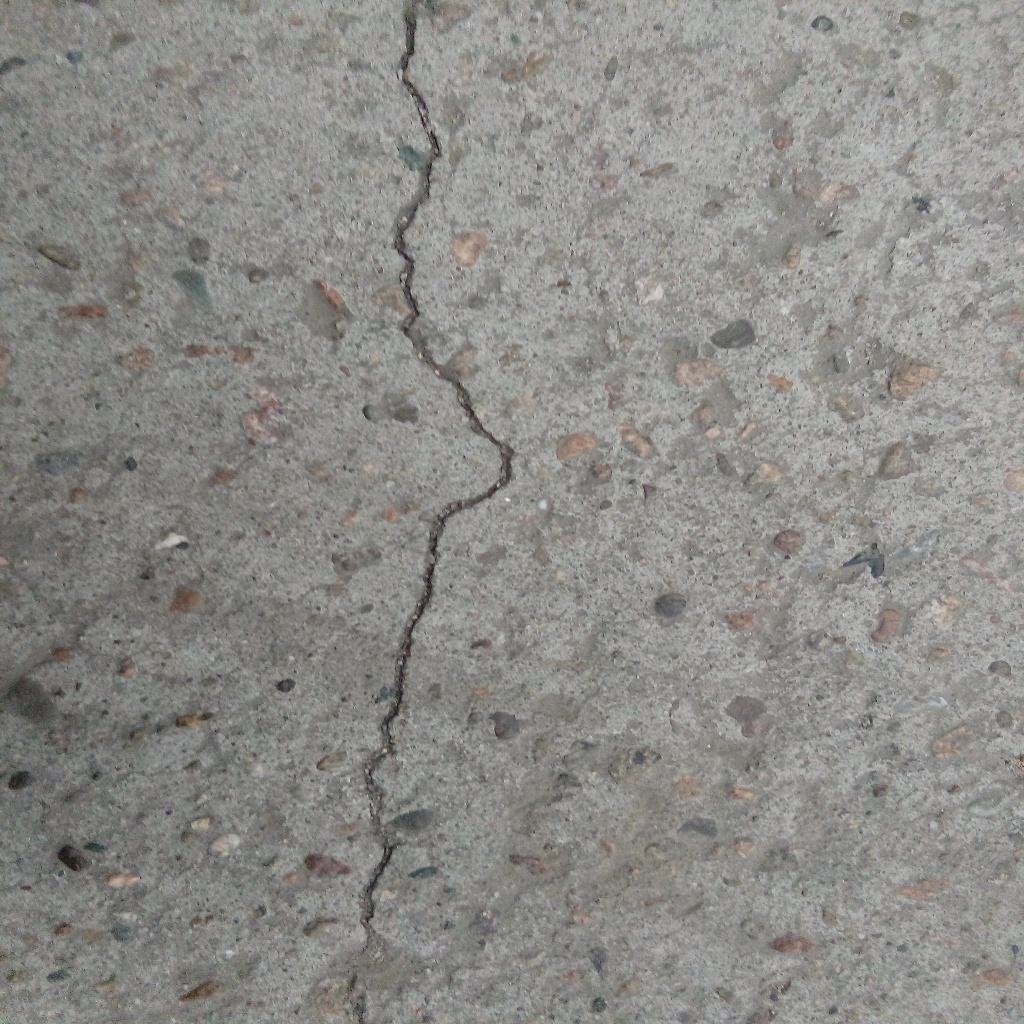Crack: (348, 1, 518, 1024)
